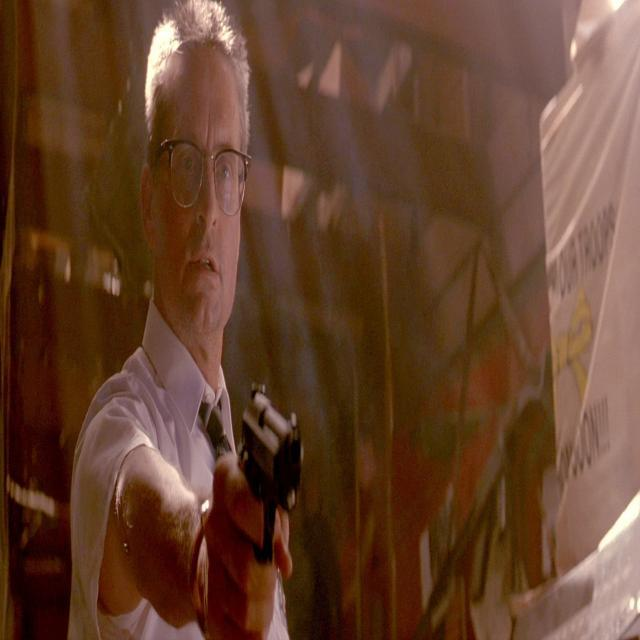gun-knife-thesis - v11 Yolov5 augmented: (222, 336, 306, 579)
